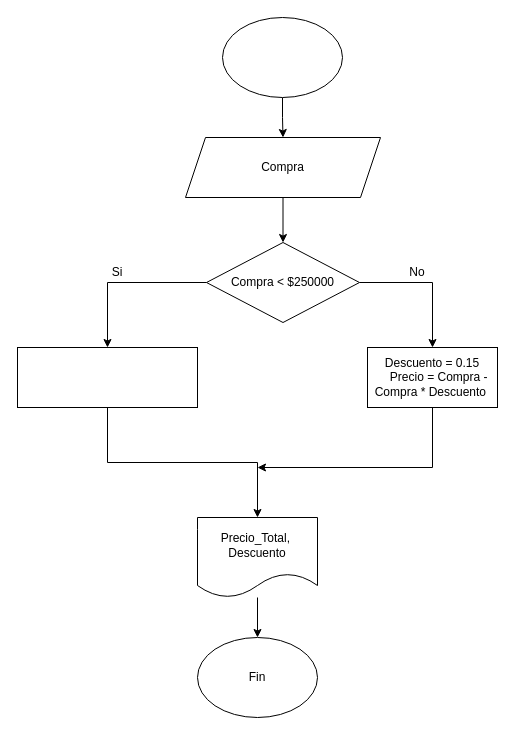
Some shapes in this 515 by 735 pixel diagram are drawn without their labels. The shapes that lost their labels are listed below. From the top down, each one's centre as x and y in pixels, then its label:
At [282,57]: "Inicio".
At [107,377]: "Descuento = 0.08 Precio = Compra - Compra * Descuento".
